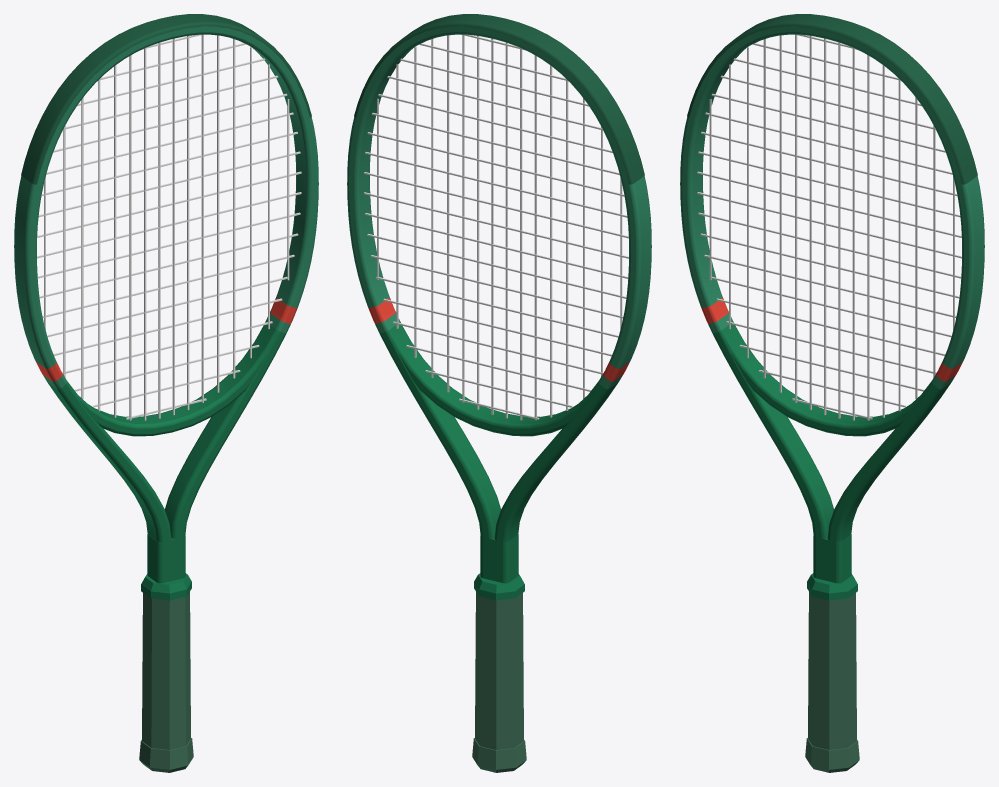
Rendered from wilson-blade-25-v10-2026.glb.
3 renders of one model, left to right at view 1: azimuth 30°, elevation 25°; view 2: azimuth 150°, elevation 25°; view 3: azimuth 330°, elevation 25°, orthographic.
Visible parts, largest first — view 1: frame, strings_mains, strings_crosses, grip, bumper, butt_cap, collar; view 2: frame, strings_mains, strings_crosses, grip, bumper, butt_cap, collar; view 3: frame, strings_mains, strings_crosses, grip, bumper, butt_cap, collar.
Boxes of the visible parts, <box> form: frame: <box>14,26,318,583</box>; strings_mains: <box>44,34,289,420</box>; strings_crosses: <box>37,34,301,419</box>; grip: <box>142,592,190,749</box>; bumper: <box>21,14,311,184</box>; butt_cap: <box>139,738,193,772</box>; collar: <box>141,573,191,600</box>; frame: <box>347,26,651,583</box>; strings_mains: <box>377,35,622,420</box>; strings_crosses: <box>364,34,628,419</box>; grip: <box>475,592,523,749</box>; bumper: <box>354,14,644,184</box>; butt_cap: <box>472,738,526,772</box>; collar: <box>474,573,524,600</box>; frame: <box>680,26,984,583</box>; strings_mains: <box>709,34,954,420</box>; strings_crosses: <box>697,34,961,419</box>; grip: <box>808,592,856,749</box>; bumper: <box>687,14,977,184</box>; butt_cap: <box>805,738,859,772</box>; collar: <box>807,573,857,600</box>.
Bounding box in the file's own units: 0.264 × 0.6353 × 0.0396.
